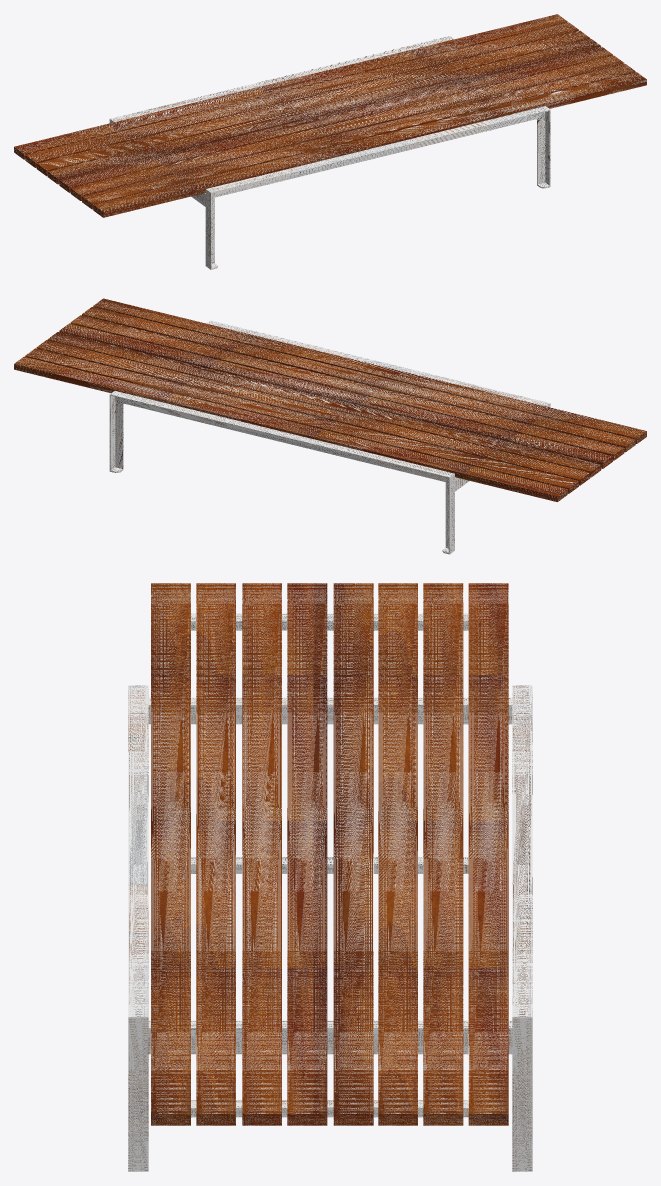
3 renders of one model, top to bottom at view 1: azimuth 30°, elevation 25°; view 2: azimuth 150°, elevation 25°; view 3: azimuth 270°, elevation 25°, orthographic. The views are drawn at different scales.
Visible parts, largest first — view 1: mesh10_mesh10-geometry, mesh1_mesh1-geometry, mesh4_mesh4-geometry, mesh5_mesh5-geometry, mesh2_mesh2-geometry, mesh6_mesh6-geometry, mesh8_mesh8-geometry, mesh7_mesh7-geometry, mesh3_mesh3-geometry; view 2: mesh7_mesh7-geometry, mesh10_mesh10-geometry, mesh2_mesh2-geometry, mesh8_mesh8-geometry, mesh3_mesh3-geometry, mesh5_mesh5-geometry, mesh6_mesh6-geometry, mesh1_mesh1-geometry, mesh4_mesh4-geometry; view 3: mesh10_mesh10-geometry, mesh2_mesh2-geometry, mesh4_mesh4-geometry, mesh6_mesh6-geometry, mesh7_mesh7-geometry, mesh1_mesh1-geometry, mesh3_mesh3-geometry, mesh5_mesh5-geometry, mesh8_mesh8-geometry.
Boxes of the visible parts, bbox=[...] form: mesh10_mesh10-geometry: bbox=[109, 36, 550, 269]; mesh1_mesh1-geometry: bbox=[93, 72, 646, 217]; mesh4_mesh4-geometry: bbox=[47, 39, 601, 184]; mesh5_mesh5-geometry: bbox=[70, 55, 624, 200]; mesh2_mesh2-geometry: bbox=[59, 47, 612, 192]; mesh6_mesh6-geometry: bbox=[25, 22, 578, 167]; mesh8_mesh8-geometry: bbox=[82, 64, 635, 209]; mesh7_mesh7-geometry: bbox=[14, 14, 567, 159]; mesh3_mesh3-geometry: bbox=[36, 30, 590, 176]; mesh7_mesh7-geometry: bbox=[14, 356, 567, 501]; mesh10_mesh10-geometry: bbox=[109, 320, 550, 554]; mesh2_mesh2-geometry: bbox=[59, 323, 612, 468]; mesh8_mesh8-geometry: bbox=[82, 307, 635, 452]; mesh3_mesh3-geometry: bbox=[36, 340, 590, 485]; mesh5_mesh5-geometry: bbox=[70, 315, 624, 460]; mesh6_mesh6-geometry: bbox=[25, 348, 578, 493]; mesh1_mesh1-geometry: bbox=[93, 298, 646, 443]; mesh4_mesh4-geometry: bbox=[47, 332, 601, 477]; mesh10_mesh10-geometry: bbox=[128, 685, 532, 1171]; mesh2_mesh2-geometry: bbox=[287, 583, 327, 1125]; mesh4_mesh4-geometry: bbox=[333, 583, 373, 1125]; mesh6_mesh6-geometry: bbox=[423, 583, 463, 1125]; mesh7_mesh7-geometry: bbox=[468, 583, 508, 1125]; mesh1_mesh1-geometry: bbox=[151, 583, 190, 1125]; mesh3_mesh3-geometry: bbox=[378, 583, 417, 1125]; mesh5_mesh5-geometry: bbox=[242, 583, 281, 1125]; mesh8_mesh8-geometry: bbox=[196, 583, 235, 1125].
Size of the model in its own units: 0.9438 by 0.1302 by 0.3038.
